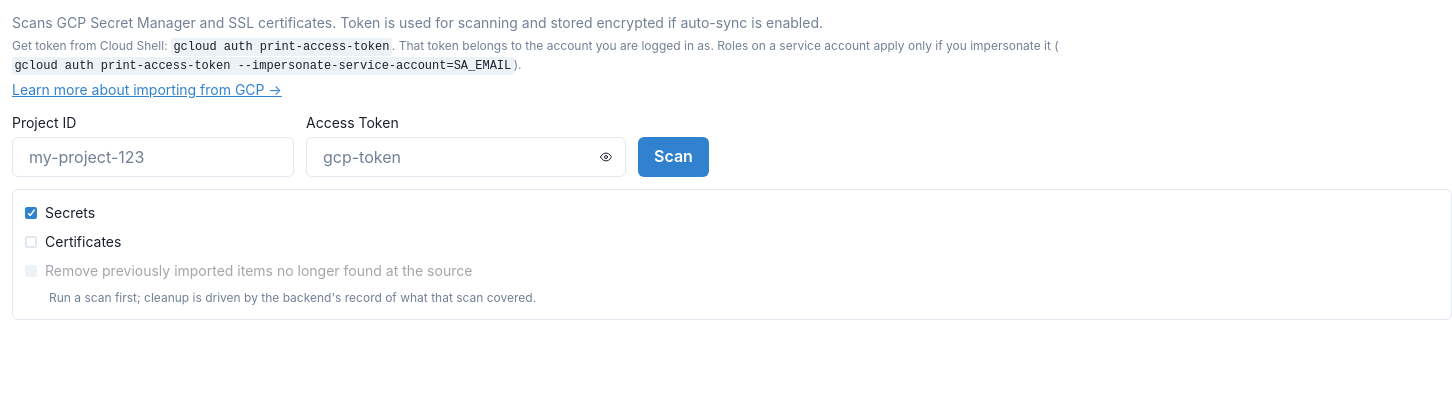
Dashboard import forms › ImportGCPForm shows a failed certificate sub-scan as readable text
Type "my-project" into the field with placeholder "my-project-123" at point(153, 157), box [12,137,294,177]
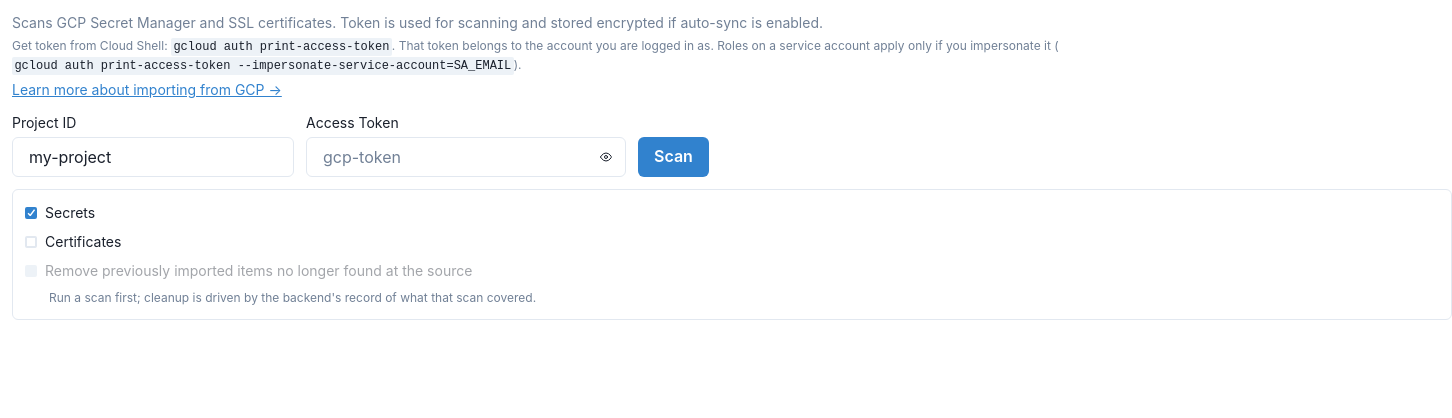
Type "ya29.token" into the password field with placeholder "gcp-token" at point(466, 157), box [306,137,626,177]
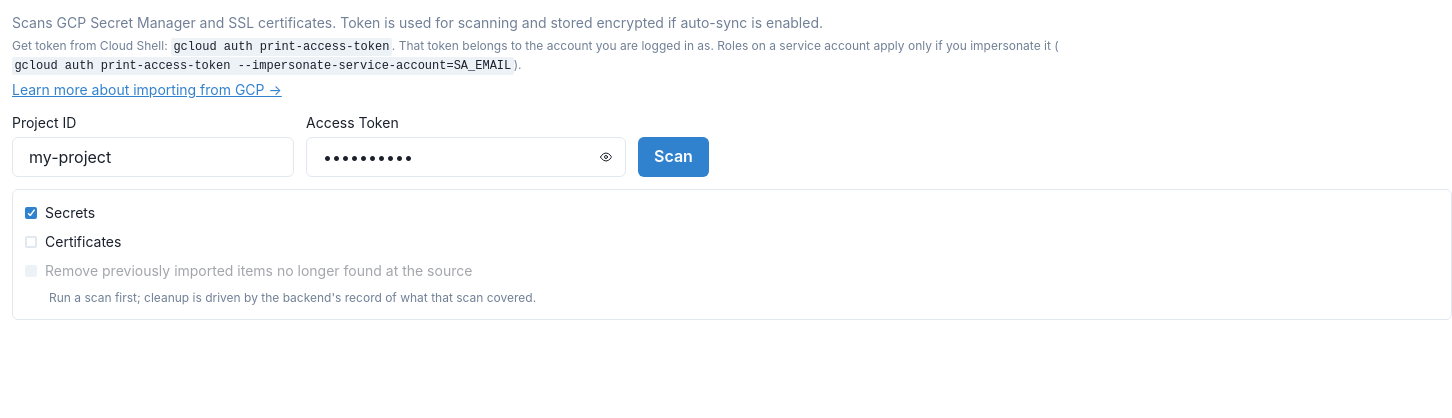
Click the checkbox labelled "Certificates" at point(73, 242), box [25,233,121,250]
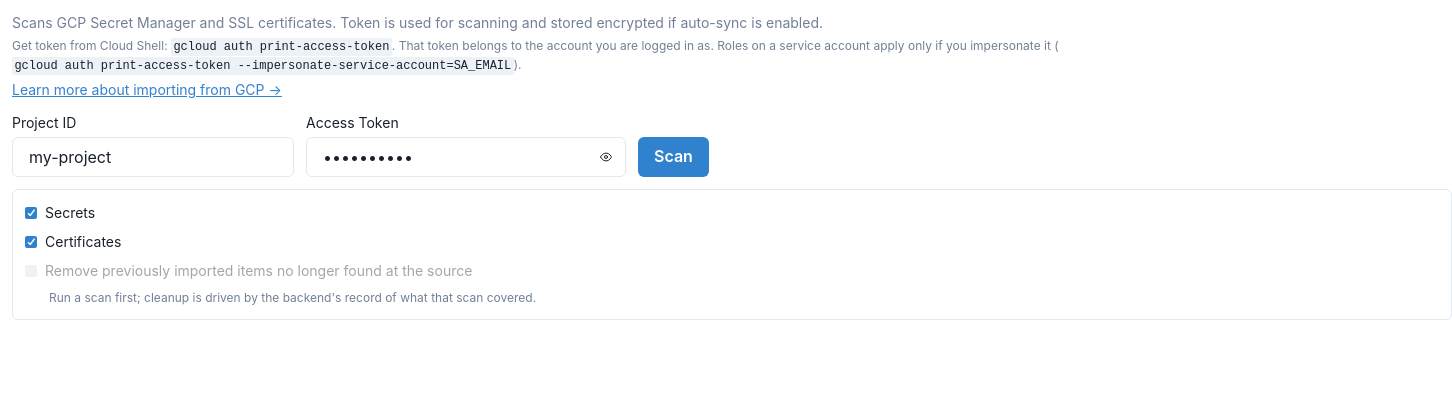
Click the button "Scan" at point(673, 157), box [638,137,709,177]
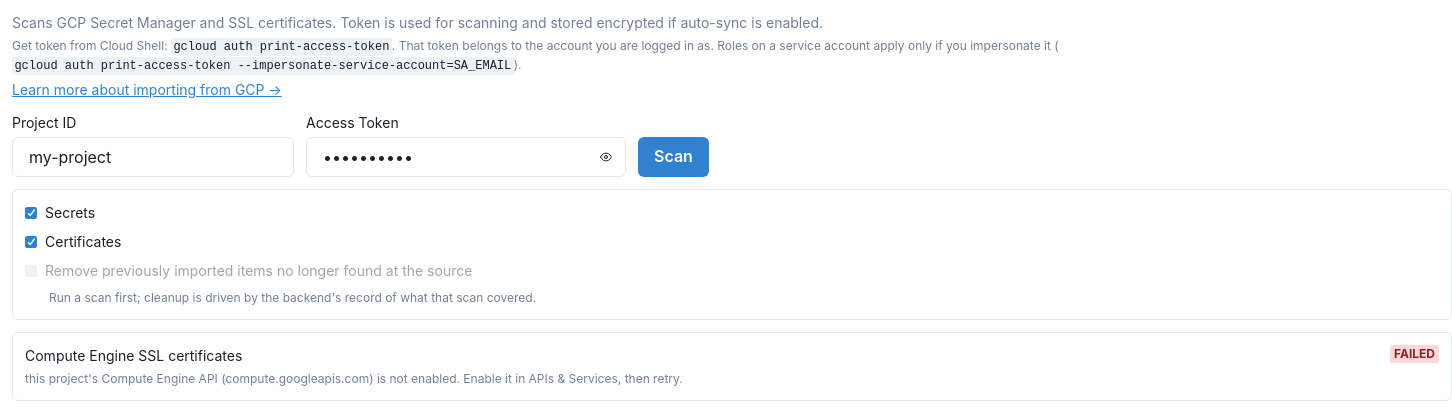
Now the text "Compute Engine SSL certificates" is shown, box [25,345,242,366]
Now the text "Failed" is shown, box [1390,345,1439,363]
